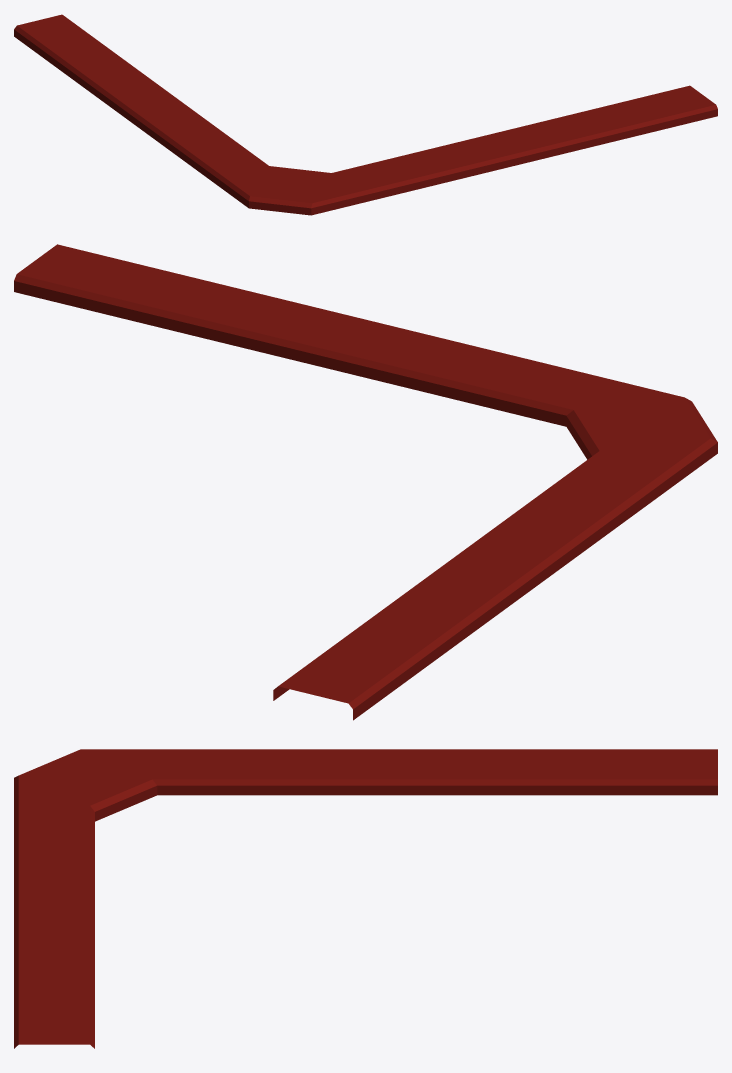
Rendered from edgeWide_ground_corner_02.FBX.
The picture shows the model from 3 angles, top to bottom: view 1: azimuth 30°, elevation 25°; view 2: azimuth 150°, elevation 25°; view 3: azimuth 270°, elevation 25°; orthographic projection. The views are drawn at different scales.
Parts seen in each view (by area): view 1: edgeWide_ground_corner_02; view 2: edgeWide_ground_corner_02; view 3: edgeWide_ground_corner_02.
Part boxes in pixels (box(x1,y1,x2,y2)): edgeWide_ground_corner_02: box(14, 14, 717, 215); edgeWide_ground_corner_02: box(14, 244, 717, 720); edgeWide_ground_corner_02: box(14, 749, 717, 1048).
Size of the model in its own units: 452 by 9.95 by 452.
